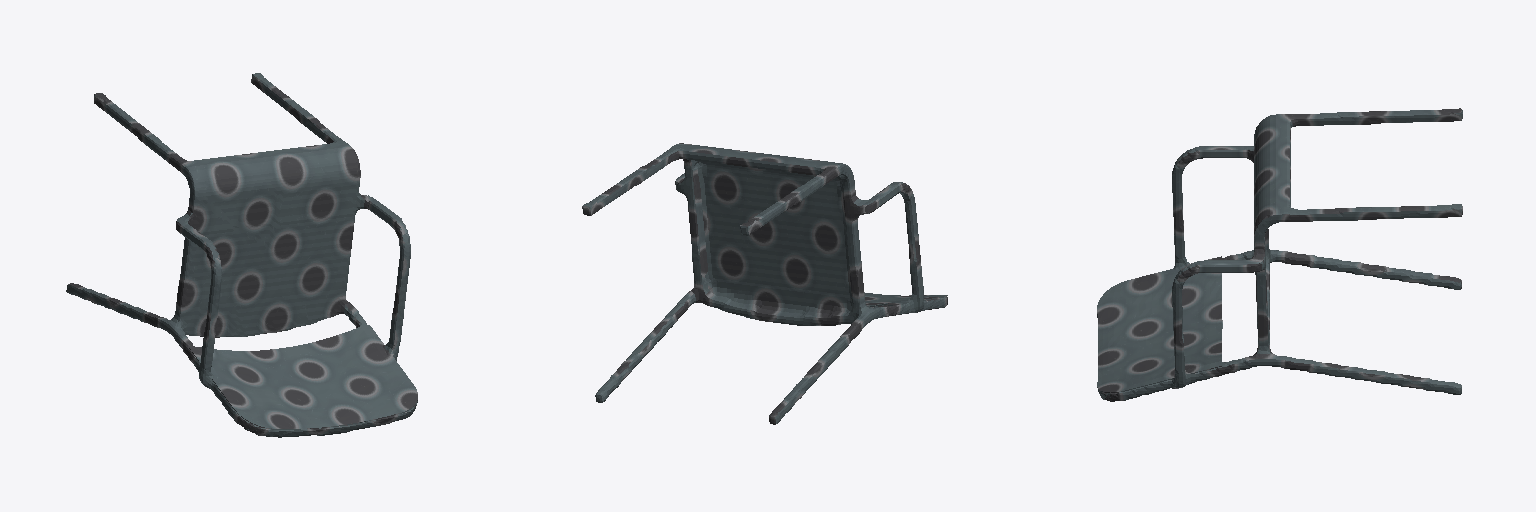
The picture shows the model from 3 angles: view 1: azimuth 30°, elevation 25°; view 2: azimuth 150°, elevation 25°; view 3: azimuth 270°, elevation 25°; orthographic projection.
Bounding box in the file's own units: 0.5469 × 0.5616 × 0.8217.
Materials: 1 (1 with a texture image).